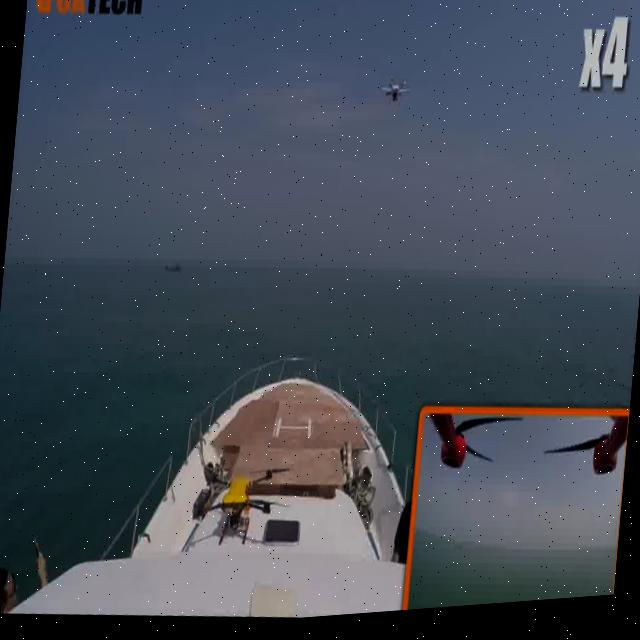drone: (180, 434, 291, 568), (382, 70, 418, 148)
